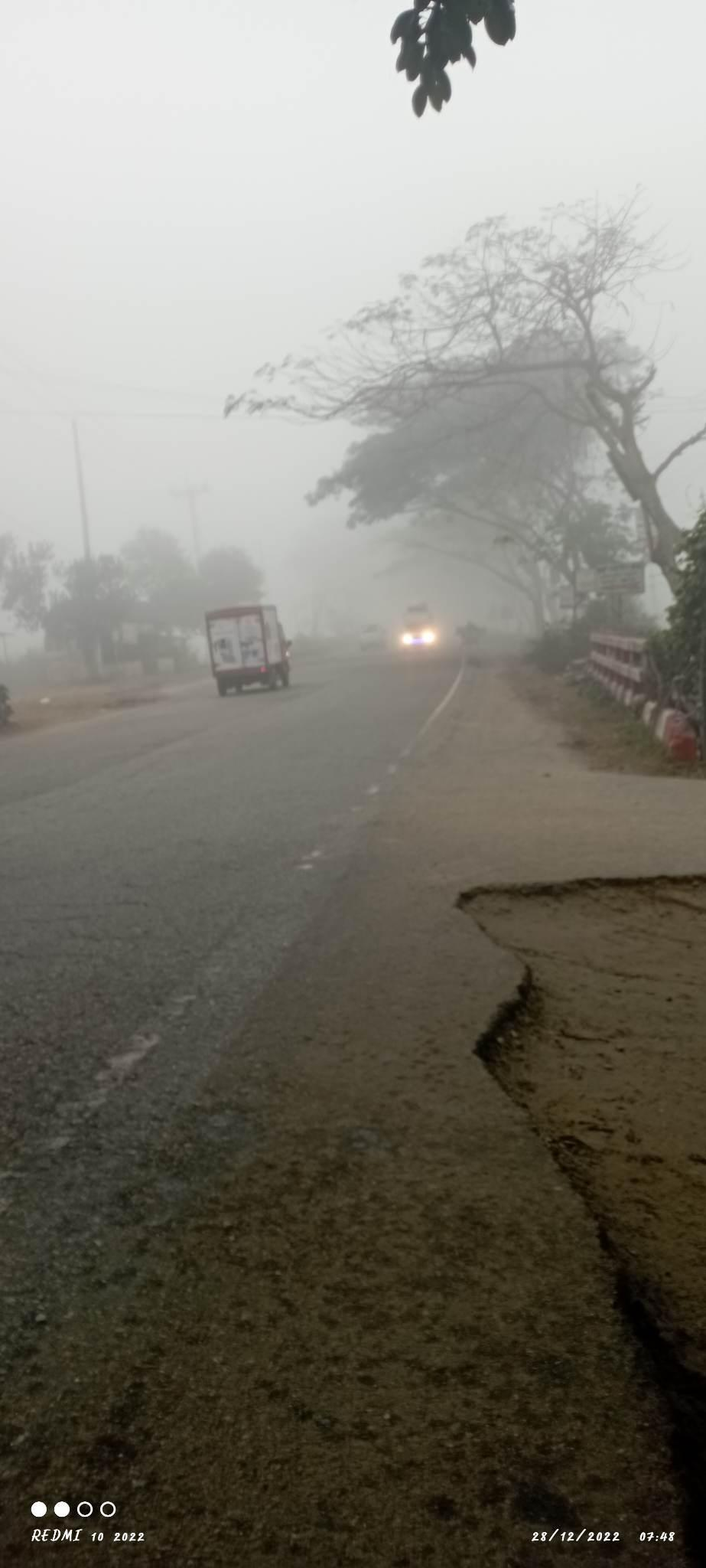Truck: (179, 585, 328, 717)
